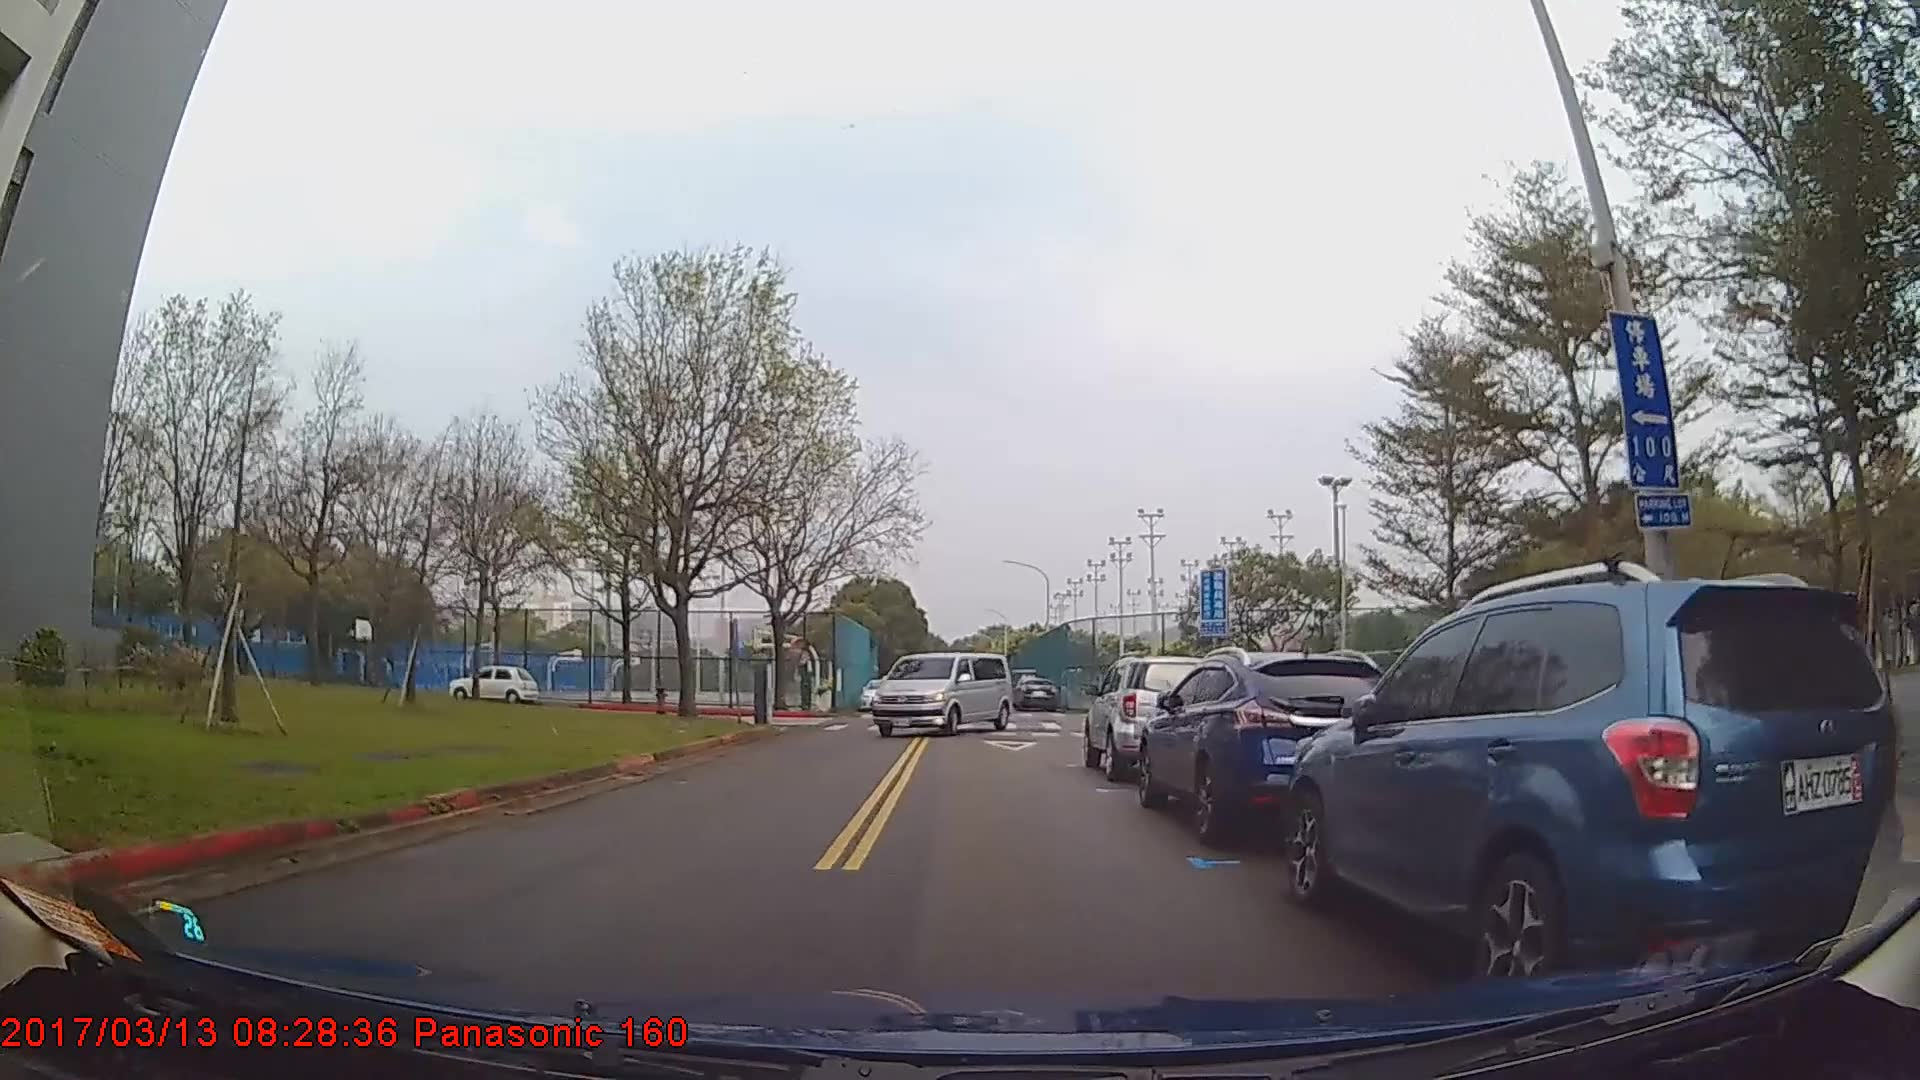vehicle: (1280, 575, 1900, 1000), (1134, 650, 1400, 843), (1083, 654, 1218, 779), (869, 650, 1014, 742), (450, 665, 537, 702), (1013, 674, 1059, 712)
